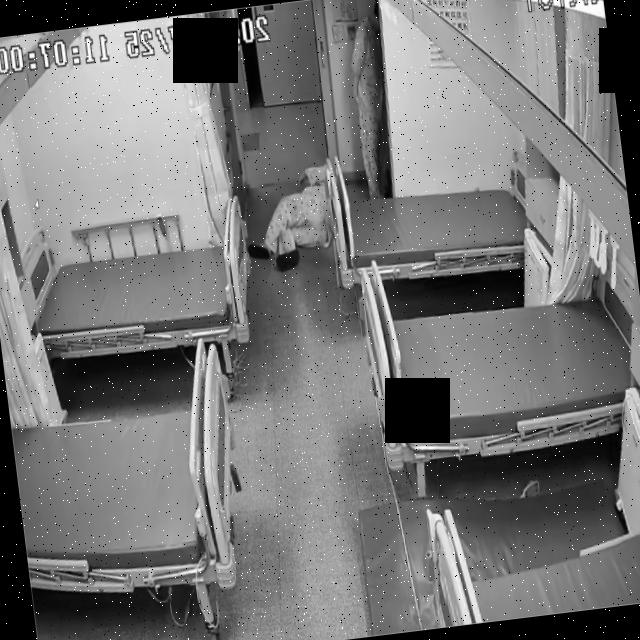bed: (3, 336, 251, 606), (361, 280, 640, 463), (13, 221, 260, 368), (330, 168, 530, 288)
fall: (238, 154, 338, 278)
patient: (340, 0, 398, 199), (240, 156, 336, 276)
